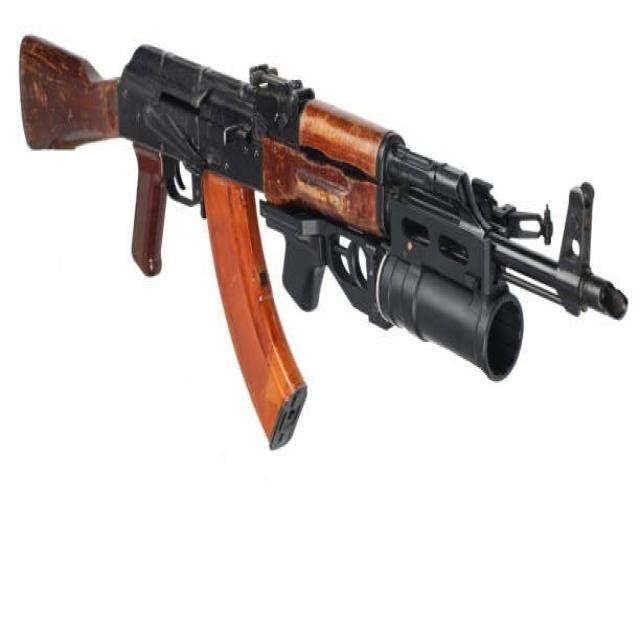rifle: (12, 17, 631, 457)
